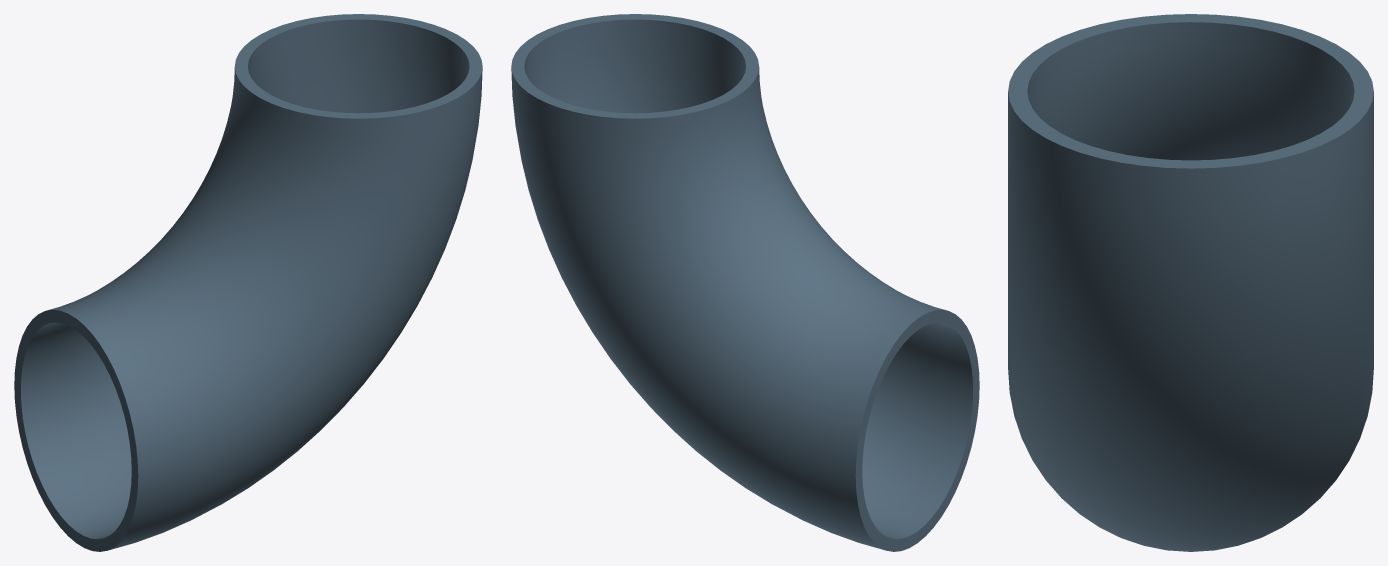
Rendered from otvod-90-114x6-R150.glb.
The picture shows the model from 3 angles, left to right: view 1: azimuth 30°, elevation 25°; view 2: azimuth 150°, elevation 25°; view 3: azimuth 270°, elevation 25°; orthographic projection. The views are drawn at different scales.
Parts seen in each view (by area): view 1: Open CASCADE STEP translator 7.9 44; view 2: Open CASCADE STEP translator 7.9 44; view 3: Open CASCADE STEP translator 7.9 44.
Part boxes in pixels (x1,y1,x2,y2): Open CASCADE STEP translator 7.9 44: (14, 14, 482, 551); Open CASCADE STEP translator 7.9 44: (511, 14, 979, 551); Open CASCADE STEP translator 7.9 44: (1008, 14, 1373, 551).
Size of the model in its own units: 207 by 207 by 114.
